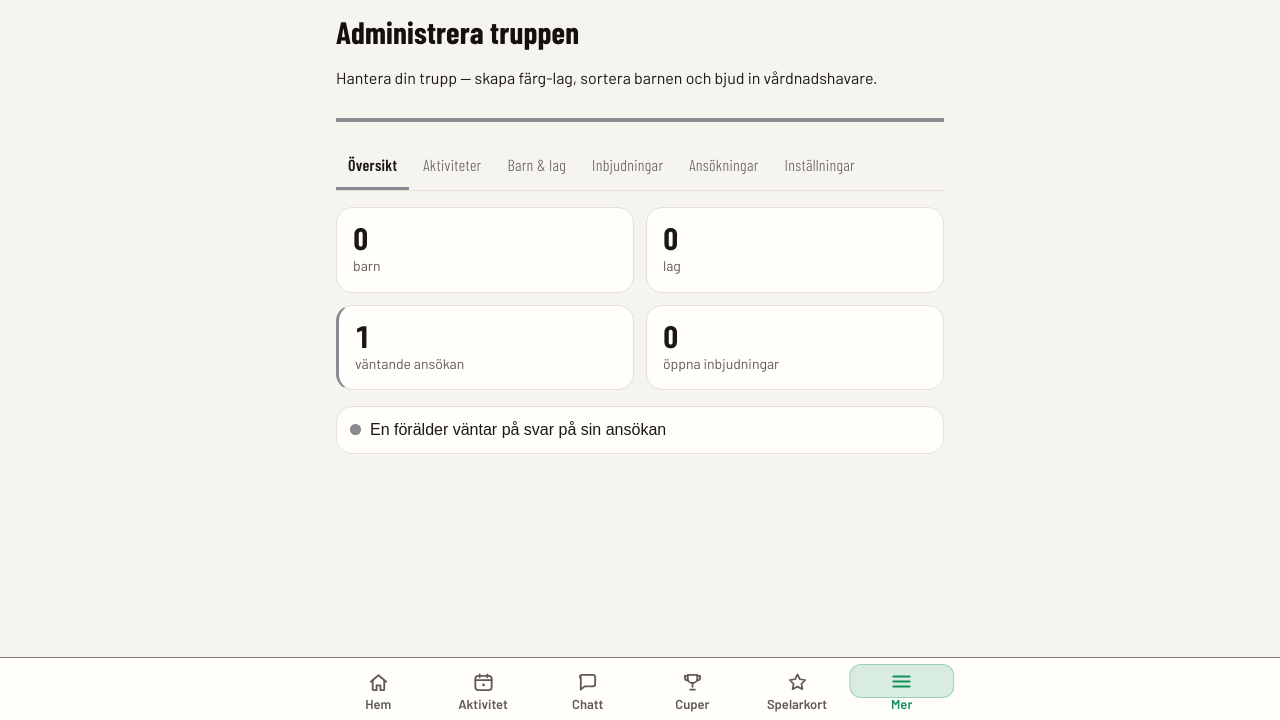
Test: Ansökningskön › admin kan godkänna en ansökan
Click the tab "Ansökningar" at [724, 166], box x1=677 y1=142 x2=771 y2=190
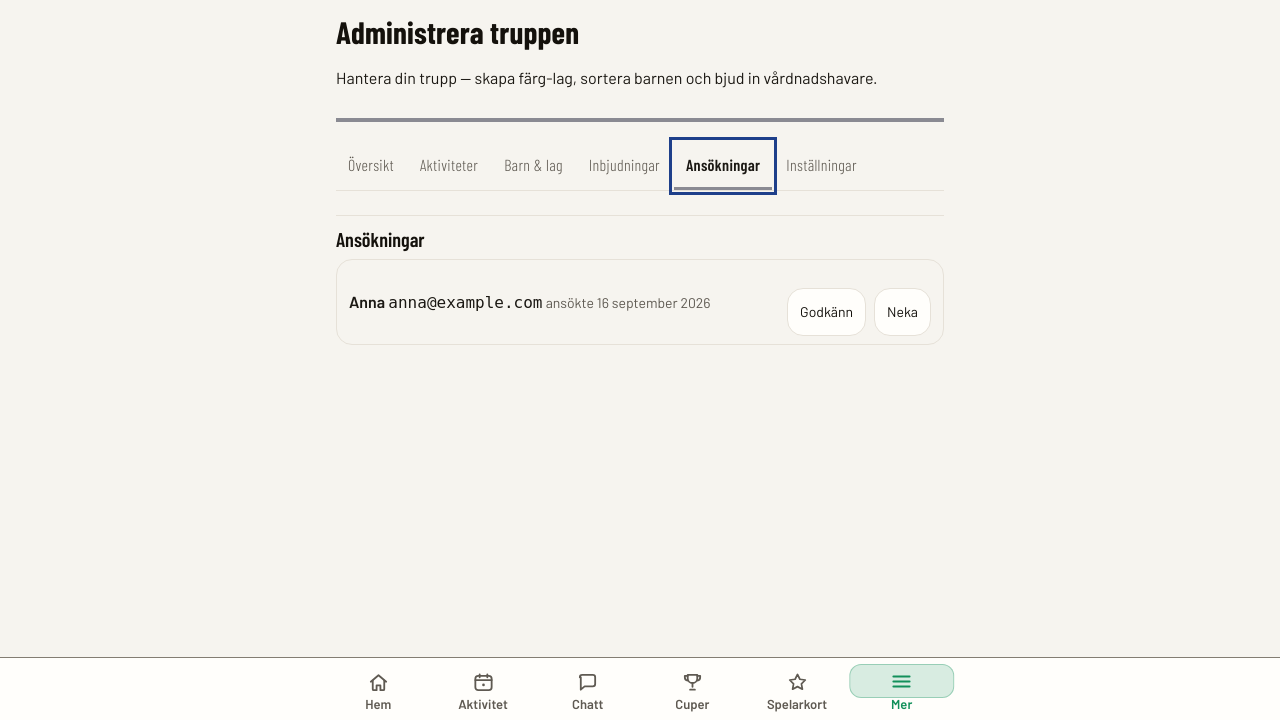
Click the button "Godkänn" at [827, 312], box x1=787 y1=288 x2=866 y2=336
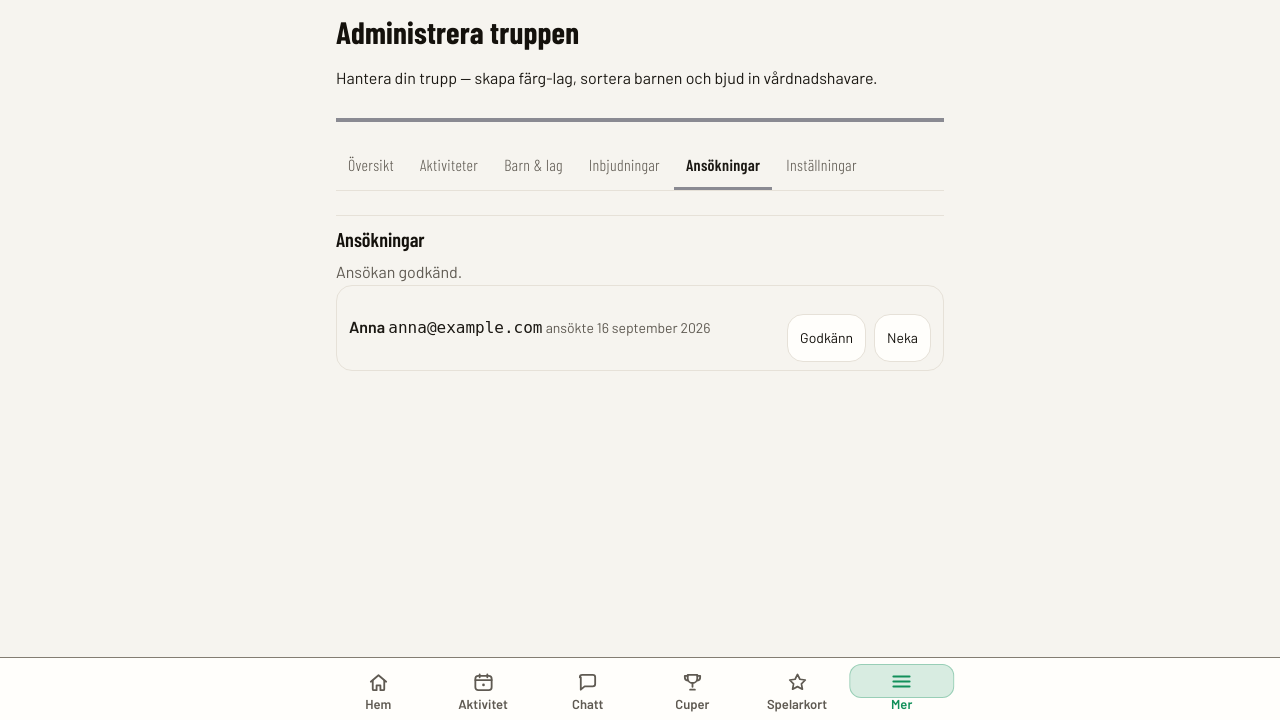
Expected: the text "Ansökan godkänd." is shown, x1=336 y1=262 x2=462 y2=281
